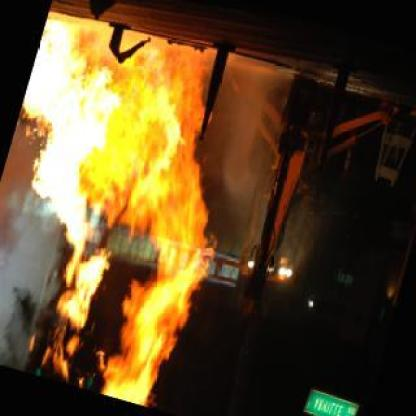Fire: (0, 19, 248, 409)
